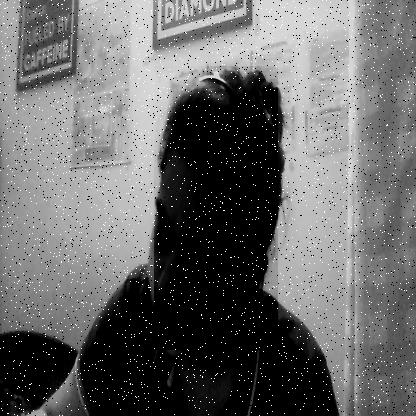Distracted: (154, 66, 278, 350)
